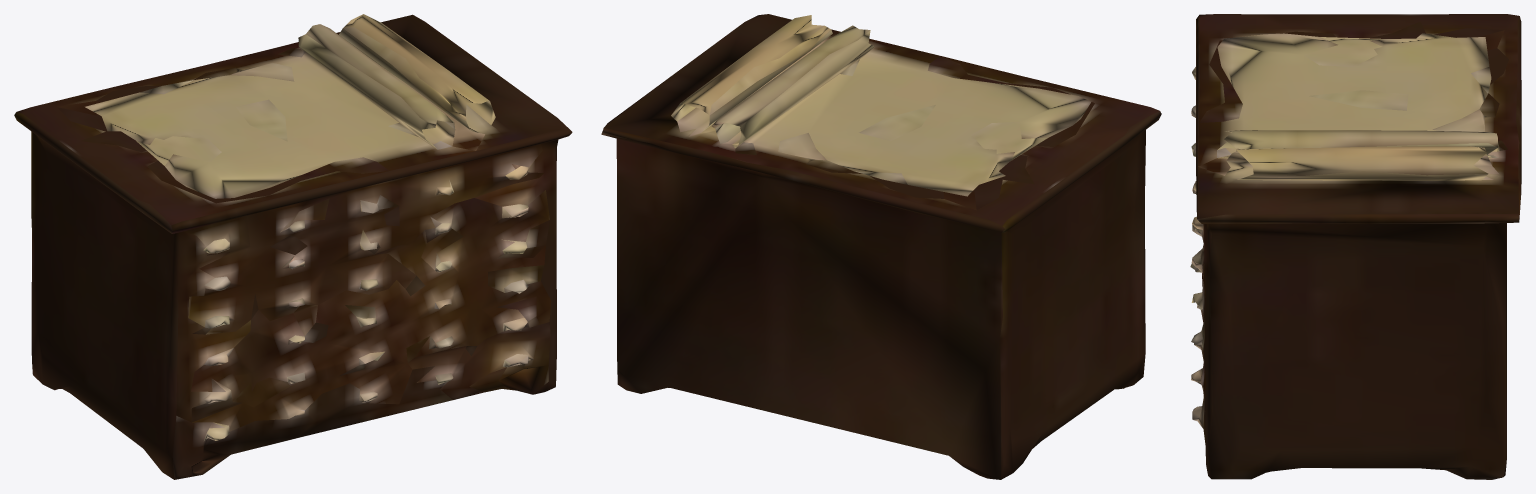
File: mueble_planos.movil.glb
3 renders of one model, left to right at view 1: azimuth 30°, elevation 25°; view 2: azimuth 150°, elevation 25°; view 3: azimuth 270°, elevation 25°, orthographic. The views are drawn at different scales.
Visible parts, largest first — view 1: geometry_0; view 2: geometry_0; view 3: geometry_0.
Boxes of the visible parts, <box> form: geometry_0: <box>14,14,572,479</box>; geometry_0: <box>601,14,1161,479</box>; geometry_0: <box>1190,14,1521,479</box>.
Size of the model in its own units: 1.3 by 0.8987 by 0.8993.
Materials: 1 (1 with a texture image).
